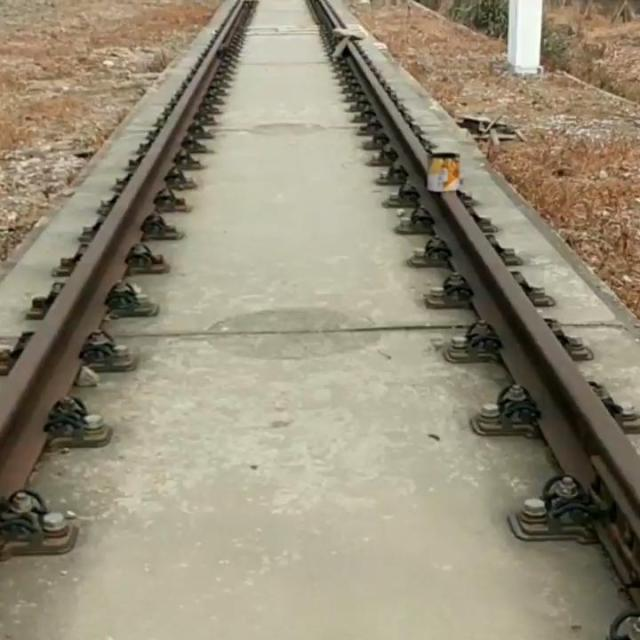danger: (325, 21, 375, 64), (425, 150, 467, 200)
rail: (302, 0, 640, 640), (0, 0, 263, 599)
